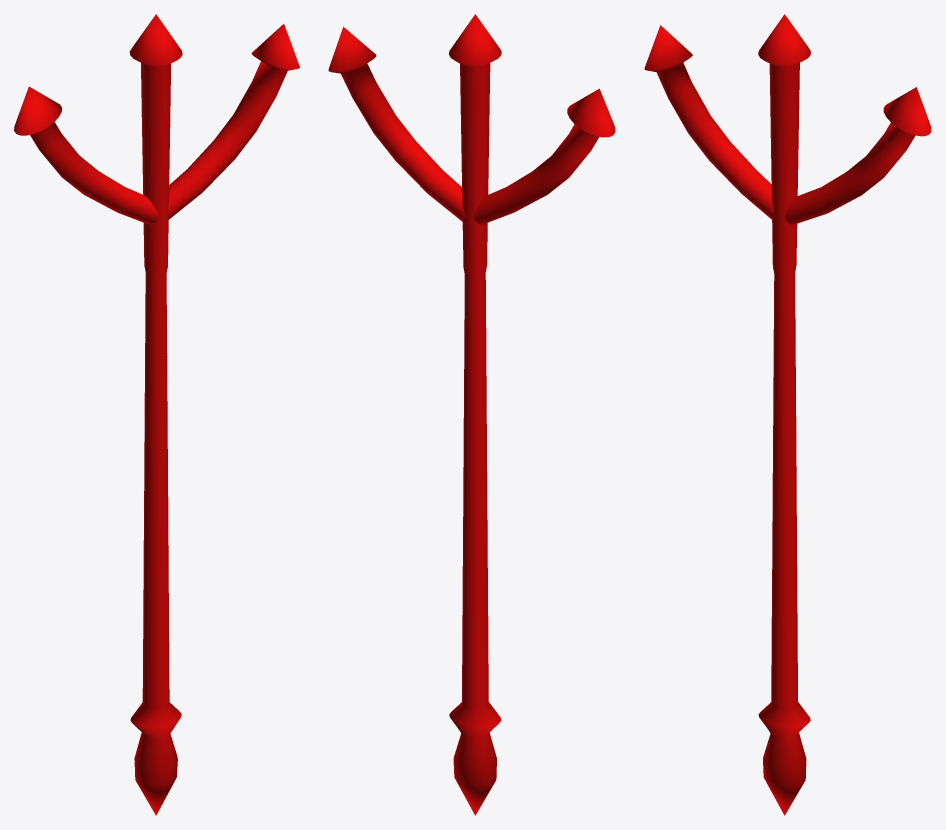
The model's file is pitchfork upgrade 1.fbx.
The picture shows the model from 3 angles, left to right: view 1: azimuth 30°, elevation 25°; view 2: azimuth 150°, elevation 25°; view 3: azimuth 330°, elevation 25°; orthographic projection.
Parts seen in each view (by area): view 1: polySurface1; view 2: polySurface1; view 3: polySurface1.
Part boxes in pixels (x1=…): polySurface1: x1=14, y1=14, x2=299, y2=815; polySurface1: x1=328, y1=14, x2=615, y2=815; polySurface1: x1=644, y1=14, x2=931, y2=815.
Size of the model in its own units: 80.45 by 219 by 13.51.
